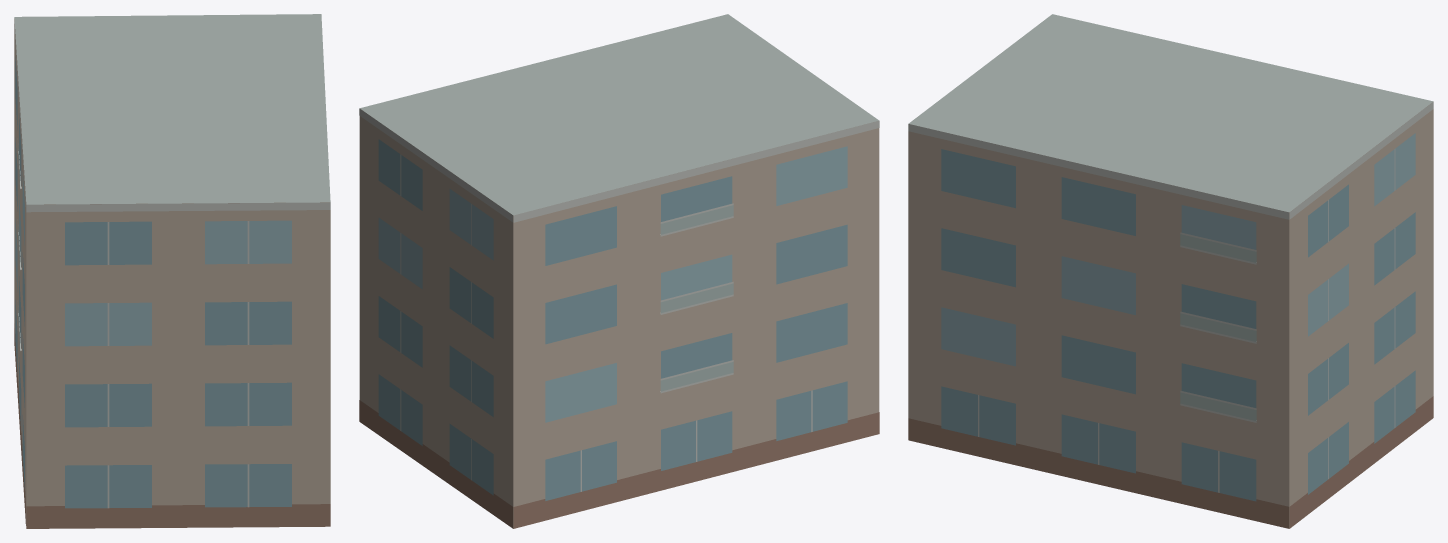
The model's file is survey-upis-32771627.glb.
3 renders of one model, left to right at view 1: azimuth 30°, elevation 25°; view 2: azimuth 150°, elevation 25°; view 3: azimuth 270°, elevation 25°, orthographic. The views are drawn at different scales.
Visible parts, largest first — view 1: survey-upis-32771627.tmp; view 2: survey-upis-32771627.tmp; view 3: survey-upis-32771627.tmp.
Boxes of the visible parts, left/top/right/bottom form: survey-upis-32771627.tmp: left=14, top=14, right=330, bottom=528; survey-upis-32771627.tmp: left=359, top=14, right=879, bottom=528; survey-upis-32771627.tmp: left=908, top=14, right=1433, bottom=528.
Size of the model in its own units: 13.99 by 10.4 by 15.66.
